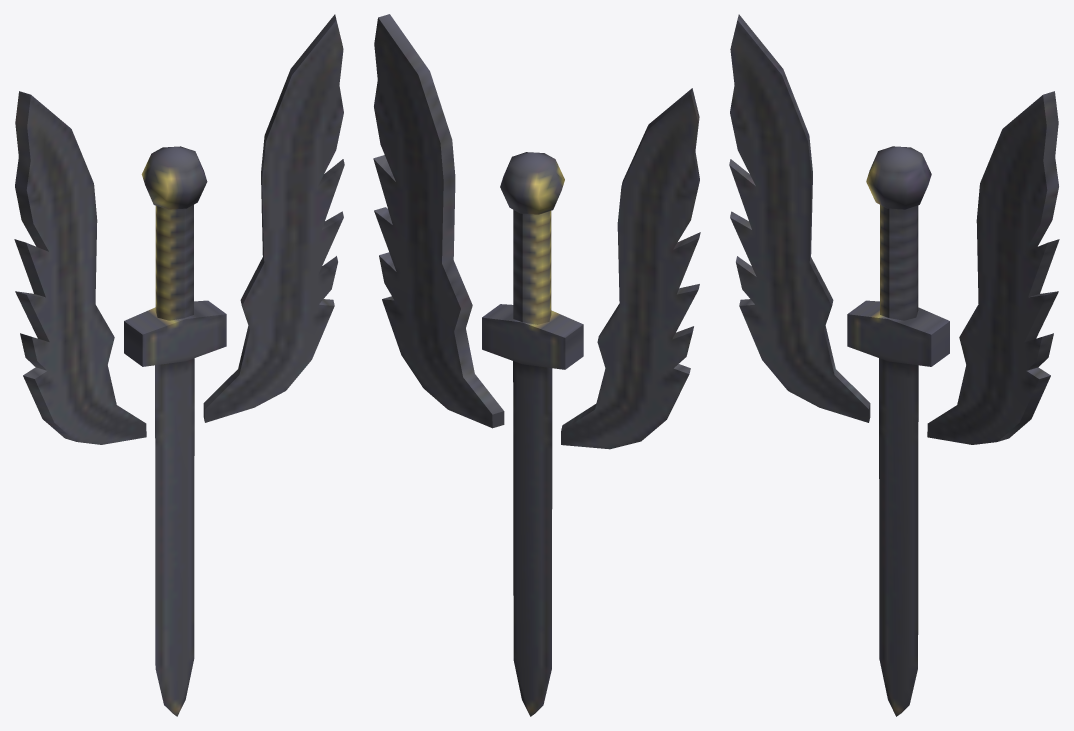
Rendered from sa_list.ico.obj.
The picture shows the model from 3 angles, left to right: view 1: azimuth 30°, elevation 25°; view 2: azimuth 150°, elevation 25°; view 3: azimuth 330°, elevation 25°; orthographic projection.
Size of the model in its own units: 2.4 by 4.63 by 0.4297.
1 material, 1 textured.
